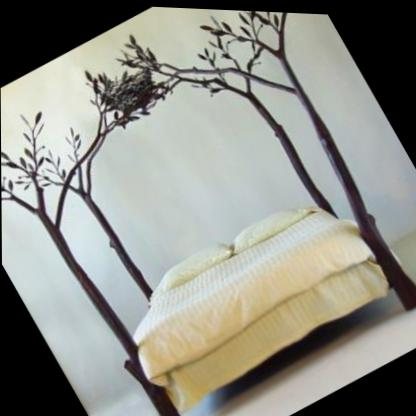Bed: (84, 146, 416, 416)
